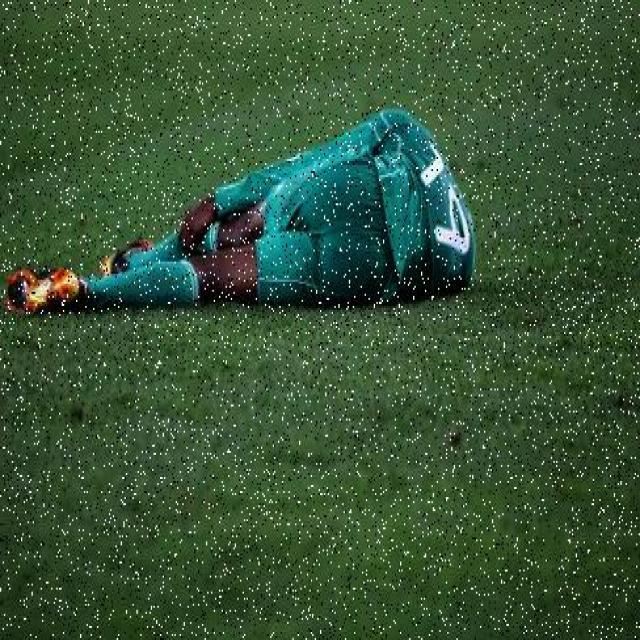fall: (6, 117, 466, 310)
